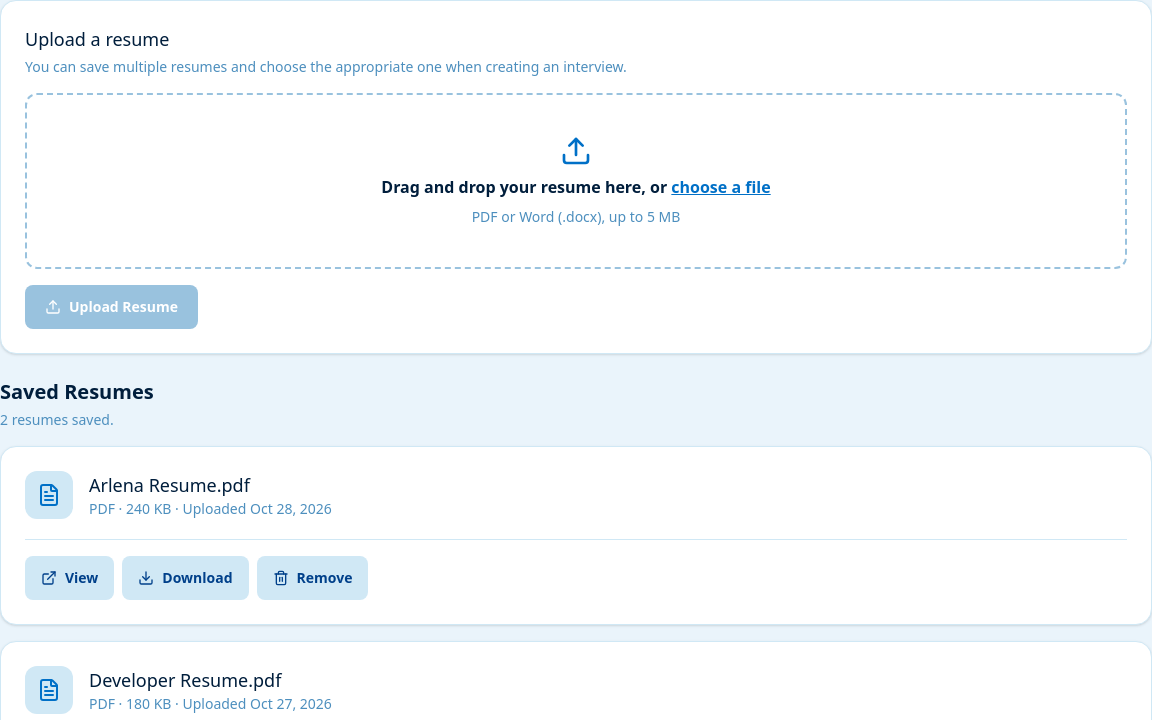
ResumeUpload › asks for confirmation, then removes only the selected resume
Click the button "Remove" at (312, 578), box [256, 556, 368, 600]
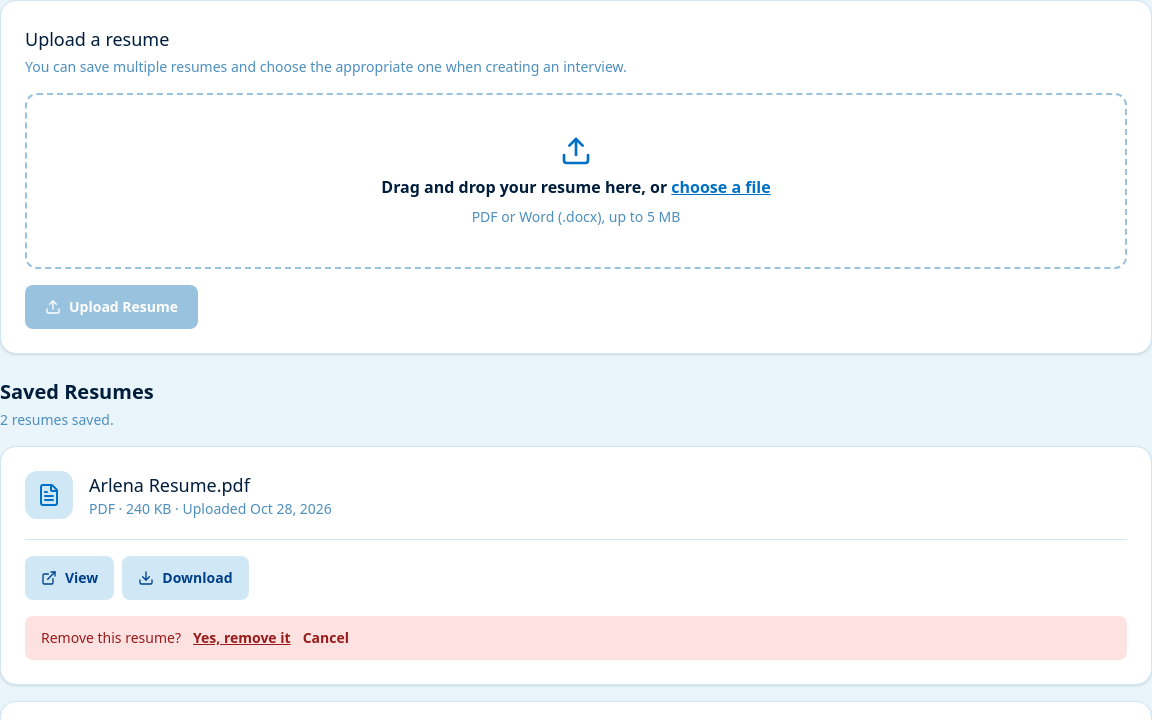
Click the button "Yes, remove it" at (242, 638), box [193, 628, 291, 648]
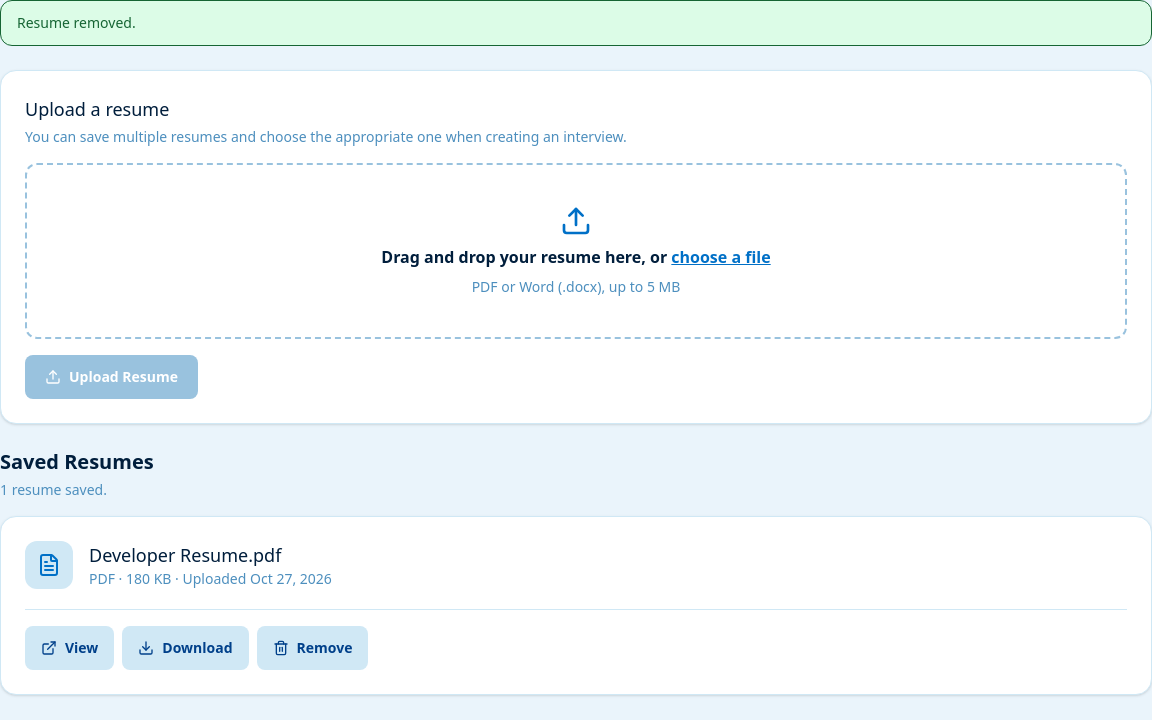
Expected: the heading "Developer Resume.pdf" is shown, [89, 543, 281, 567]
Now the text "Resume removed." is shown, box [17, 13, 136, 33]
Now the heading "Arlena Resume.pdf" is gone
